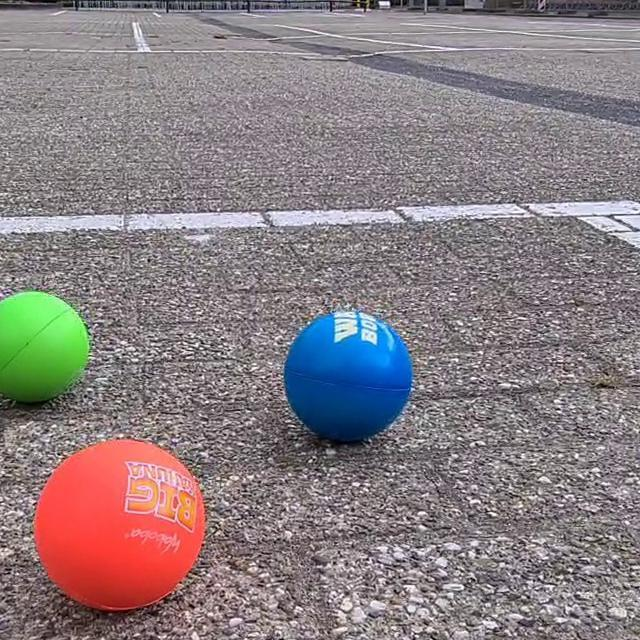ball: (283, 303, 417, 444), (0, 287, 91, 405)
